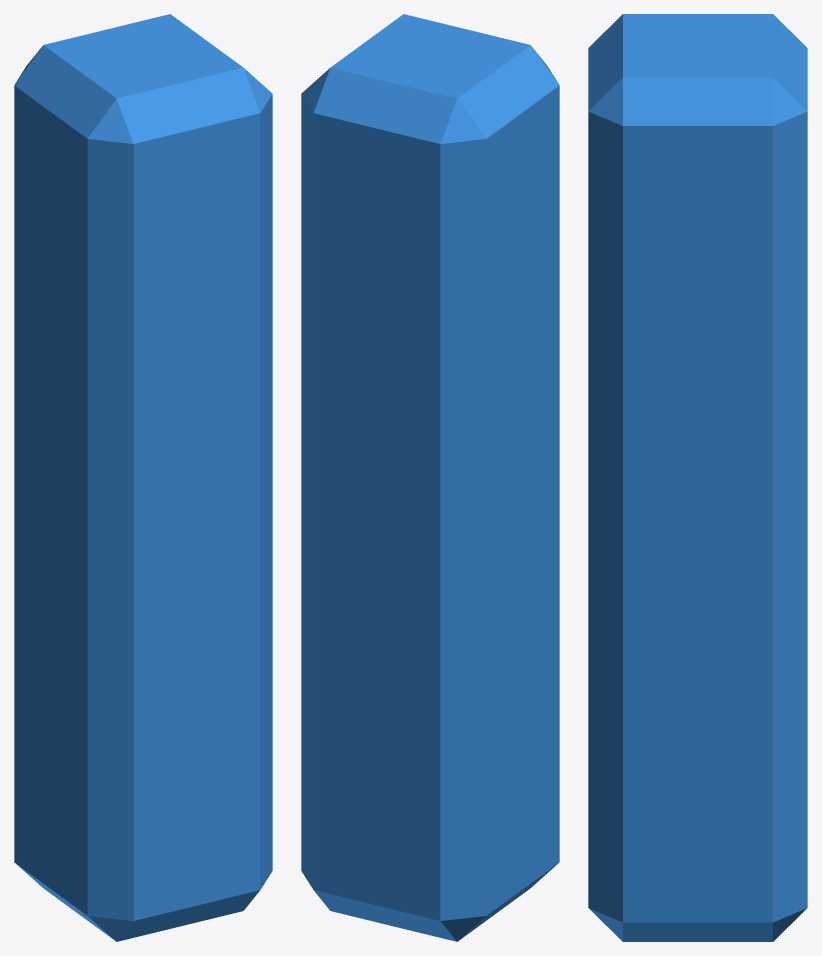
The model's file is surprise.glb.
3 views of the same model, side by side, from view 1: azimuth 30°, elevation 25°; view 2: azimuth 150°, elevation 25°; view 3: azimuth 270°, elevation 25° (orthographic). The views are drawn at different scales.
Parts seen in each view (by area): view 1: ziran.821; view 2: ziran.821; view 3: ziran.821.
Boxes of the visible parts, x1,y1,x2,y2 form: ziran.821: [14, 14, 272, 941]; ziran.821: [301, 14, 559, 941]; ziran.821: [588, 14, 807, 941].
Bounding box in the file's own units: 0.1946 × 0.8468 × 0.1946.
1 material, 1 textured.
